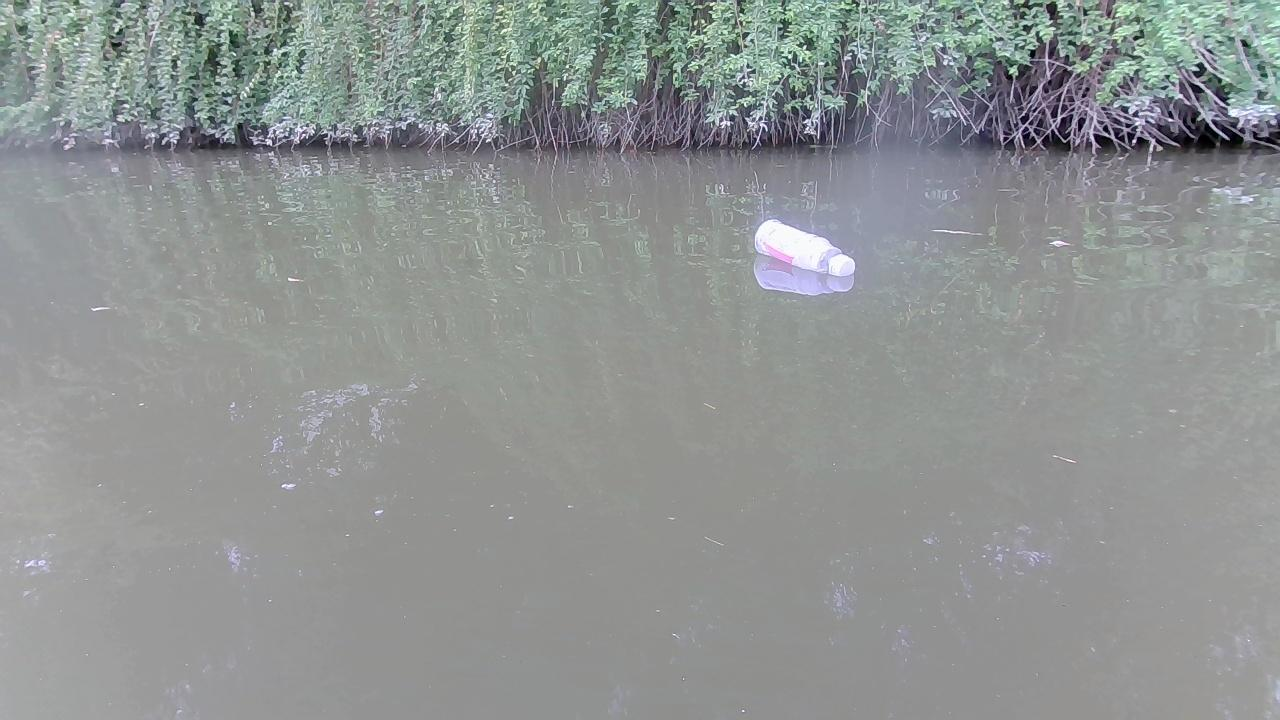bottle: (754, 217, 854, 276)
